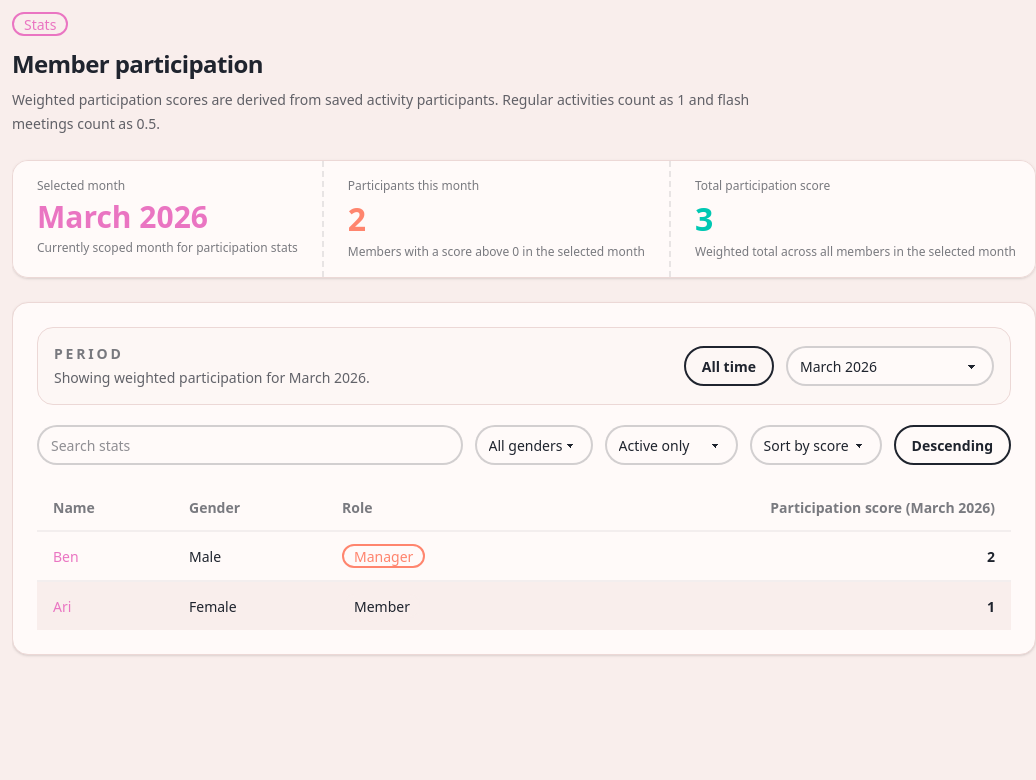
Scenario: stats page › defaults to the current month and can switch back to all-time stats
Expected: the text "Selected month" is shown, top-left (37, 177), bottom-right (125, 194)
Expected: the text "Participants this month" is shown, top-left (348, 177), bottom-right (479, 194)
Select "February 2026" in the dropdown named "Month" at (890, 366), box top-left (786, 346), bottom-right (994, 386)
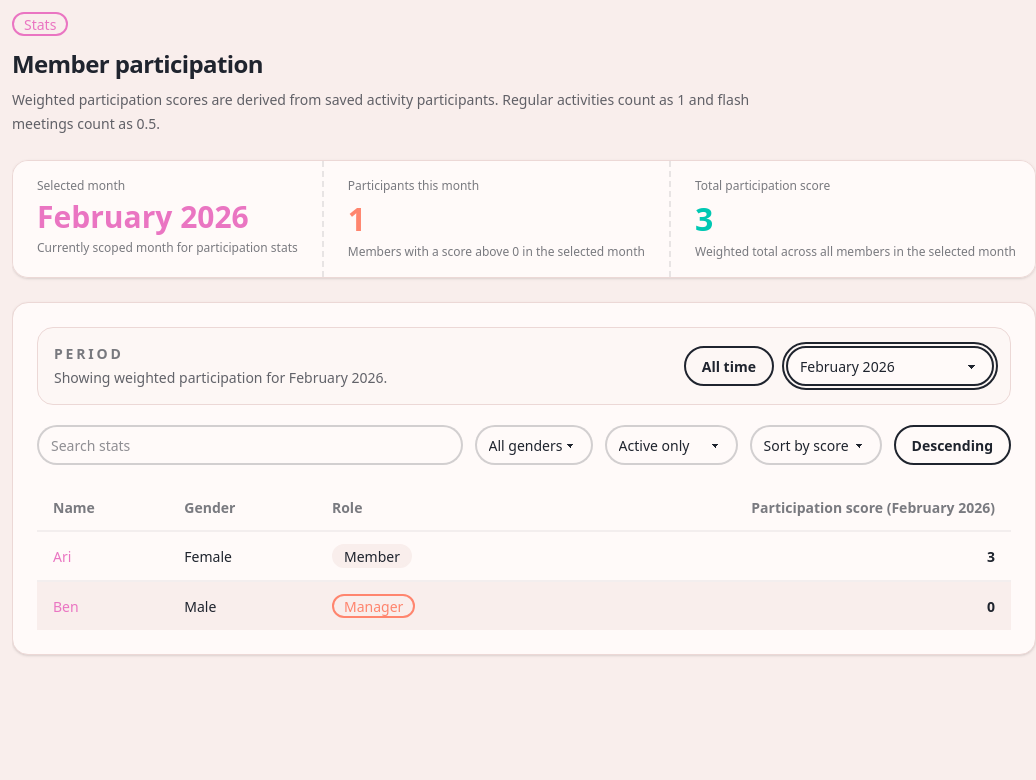
Result: the column heading "Participation score (February 2026)" is shown at top-left (521, 485), bottom-right (1011, 532)
Click the button "All time".
click(729, 366)  # box top-left (684, 346), bottom-right (774, 386)
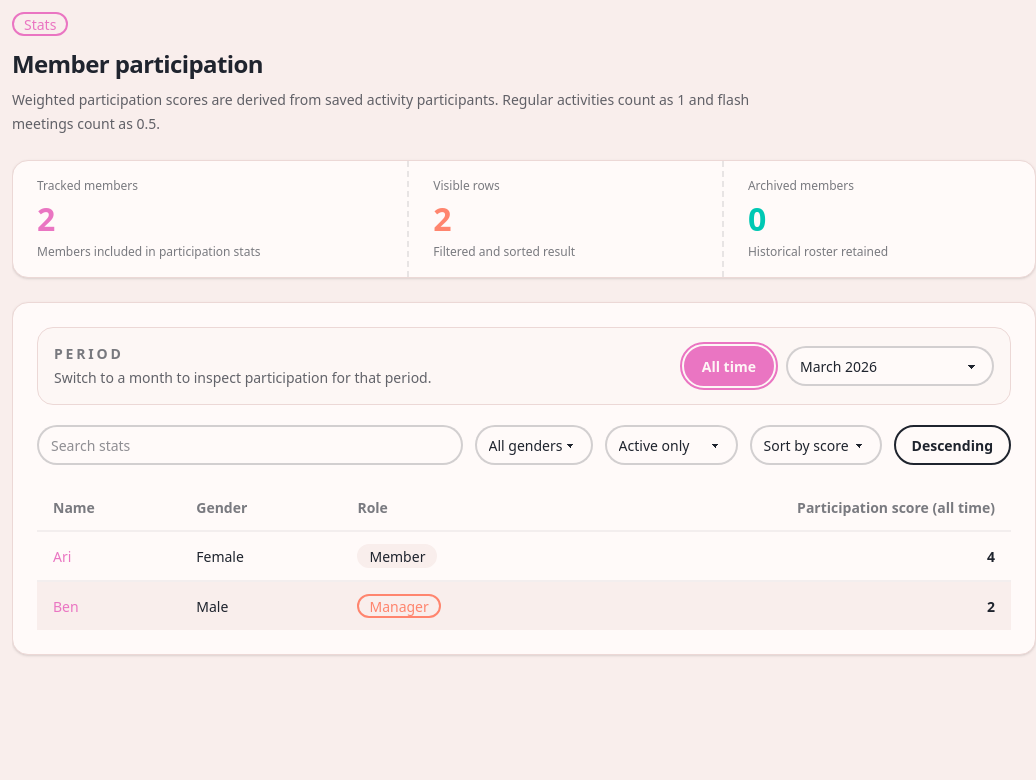
Result: the text "Tracked members" is shown at top-left (37, 177), bottom-right (138, 194)
Result: the column heading "Participation score (all time)" is shown at top-left (565, 485), bottom-right (1011, 532)
